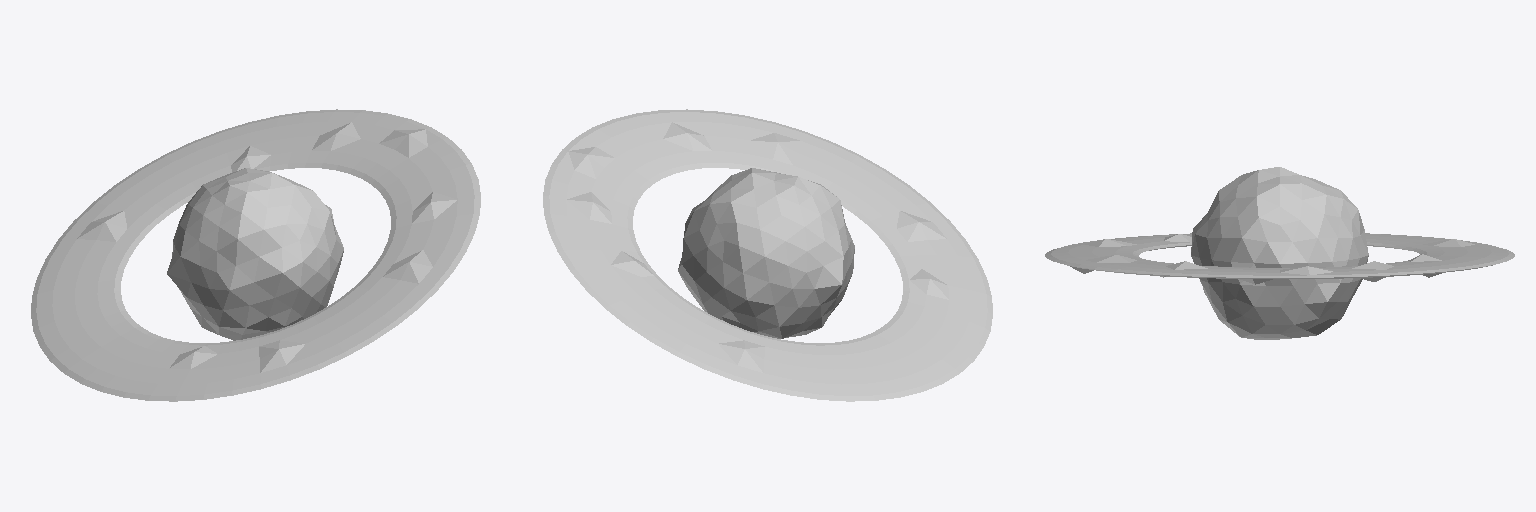
The model's file is Gas Planet 2.obj.
The picture shows the model from 3 angles: view 1: azimuth 30°, elevation 25°; view 2: azimuth 150°, elevation 25°; view 3: azimuth 270°, elevation 25°; orthographic projection.
Parts seen in each view (by area): view 1: Icosphere.005_Icosphere.002; view 2: Icosphere.005_Icosphere.002; view 3: Icosphere.005_Icosphere.002.
Boxes of the visible parts, x1=… form: Icosphere.005_Icosphere.002: x1=31, y1=109, x2=480, y2=401; Icosphere.005_Icosphere.002: x1=543, y1=109, x2=992, y2=401; Icosphere.005_Icosphere.002: x1=1045, y1=167, x2=1514, y2=339.
Bounding box in the file's own units: 195 × 77.08 × 207.